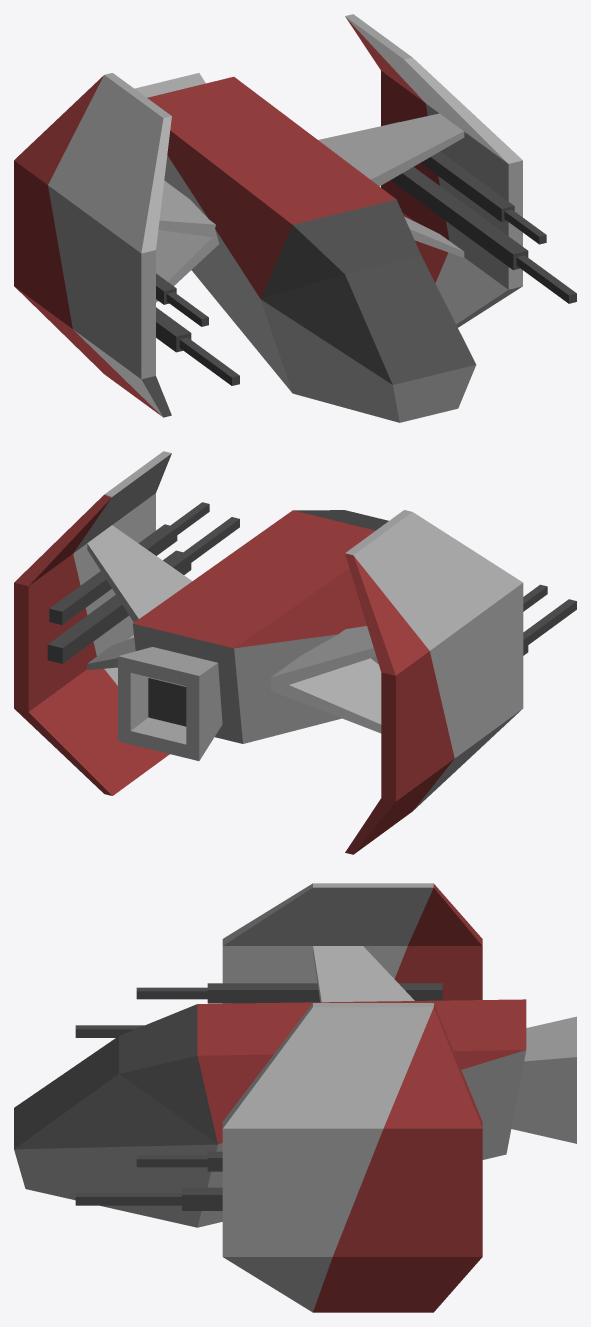
Rendered from Spaceship_Scout.glb.
The picture shows the model from 3 angles, top to bottom: view 1: azimuth 30°, elevation 25°; view 2: azimuth 150°, elevation 25°; view 3: azimuth 270°, elevation 25°; orthographic projection.
Parts seen in each view (by area): view 1: Lo_poly_Spaceship_04_by_Liz_Reddington; view 2: Lo_poly_Spaceship_04_by_Liz_Reddington; view 3: Lo_poly_Spaceship_04_by_Liz_Reddington.
Boxes of the visible parts, left/top/right/bottom form: Lo_poly_Spaceship_04_by_Liz_Reddington: left=14, top=14, right=576, bottom=422; Lo_poly_Spaceship_04_by_Liz_Reddington: left=14, top=451, right=576, bottom=854; Lo_poly_Spaceship_04_by_Liz_Reddington: left=14, top=883, right=576, bottom=1312.
Size of the model in its own units: 337 by 253 by 422.
